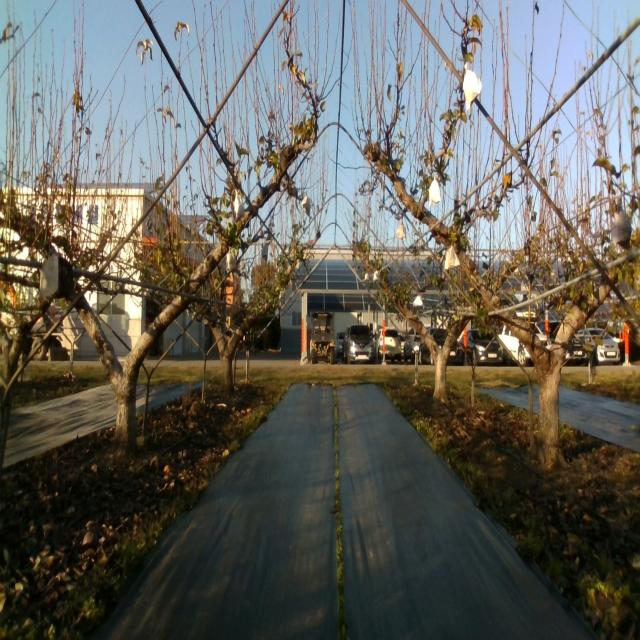pearbags: (611, 200, 632, 251), (463, 63, 483, 109), (428, 175, 441, 207), (444, 248, 461, 270), (395, 220, 407, 242), (234, 190, 244, 216), (226, 248, 236, 272)
